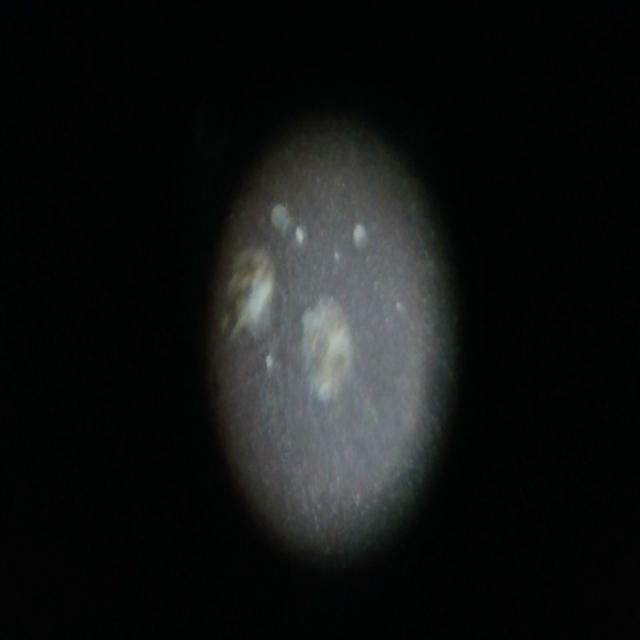alexandrium: (299, 294, 354, 402), (232, 242, 280, 356)
